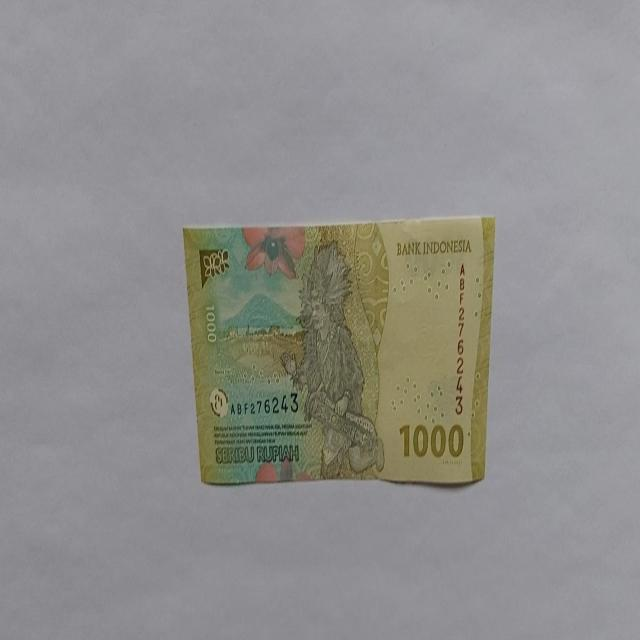seribu rupiah kertas: (182, 215, 496, 487)
